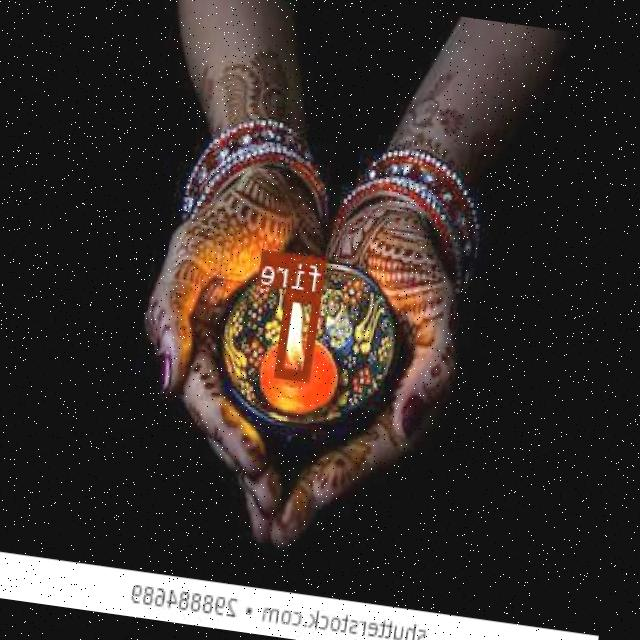fire: (277, 290, 322, 380)
